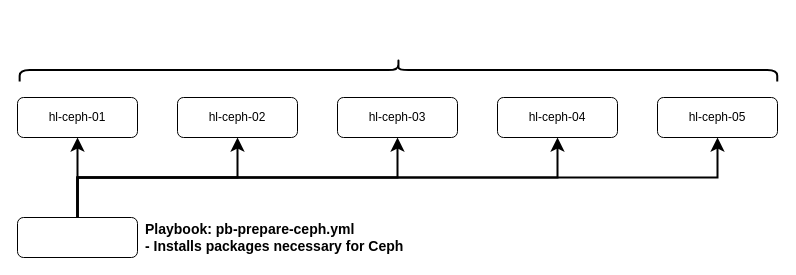
Some shapes in this 796 by 275 pixel diagram are drawn without their labels. Each missing label, with the centre of its shape:
Ansible inventory group "hl_ceph": pixel 398 69
Ansible Workstation: pixel 77 237
